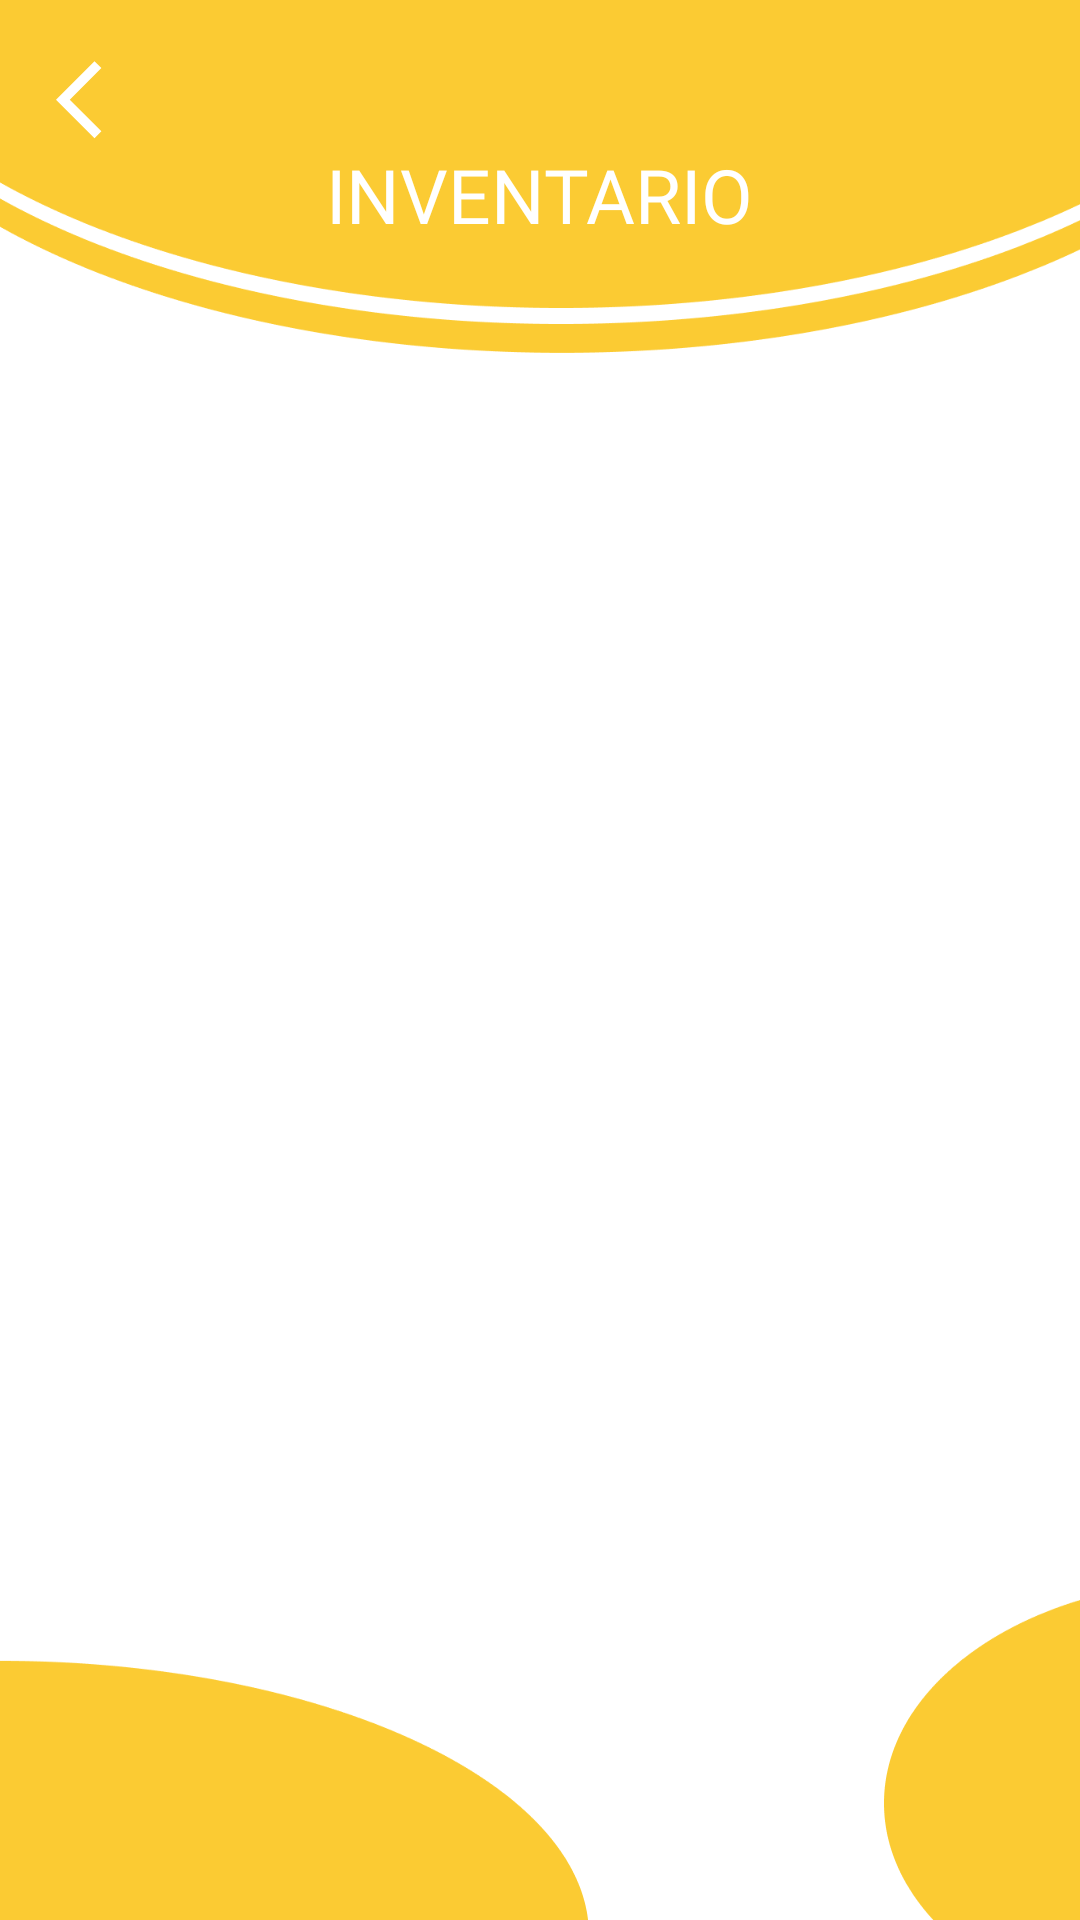

Point at icon controls on the screen. Image size 1080px×1920px, points as (x=x, y=y).
arrow back: (x=79, y=99)
